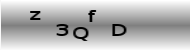3: (54, 23, 68, 37)
D: (110, 23, 127, 36)
Q: (72, 26, 89, 41)
f: (86, 9, 96, 22)
z: (29, 10, 41, 21)
